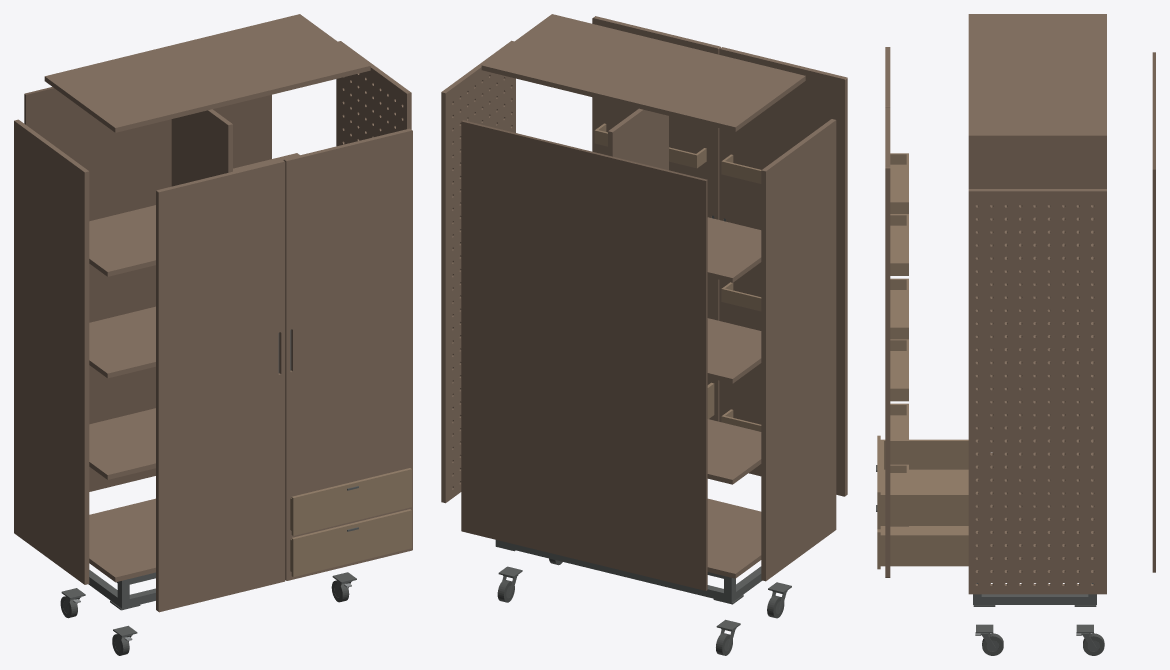
File: exploded.glb
3 renders of one model, left to right at view 1: azimuth 30°, elevation 25°; view 2: azimuth 150°, elevation 25°; view 3: azimuth 270°, elevation 25°, orthographic. The views are drawn at different scales.
Visible parts, largest first — view 1: B30-door, B31-door, B02-left-side, B04-back, B01-top, D0-face, D1-face, B03-right-pegboard, B00-bottom, B05-divider, B11-left-shelf, B12-left-shelf (+2 smaller); view 2: B04-back, B02-left-side, B01-top, B30-door, B03-right-pegboard, B31-door, B00-bottom, B12-left-shelf, B10-left-shelf, B11-left-shelf, B05-divider, A0-width-1; view 3: B03-right-pegboard, B01-top, B05-divider, B31-door, D1-right, D0-right, D1-left, D1-bottom, B04-back, B02-left-side, A0-depth-1, D0-bottom (+5 smaller).
Part boxes in pixels (x1=…): B30-door: x1=156, y1=160, x2=285, y2=612; B31-door: x1=283, y1=128, x2=412, y2=580; B02-left-side: x1=14, y1=119, x2=89, y2=584; B04-back: x1=24, y1=87, x2=271, y2=491; B01-top: x1=44, y1=14, x2=370, y2=132; D0-face: x1=291, y1=509, x2=411, y2=576; D1-face: x1=291, y1=468, x2=411, y2=535; B03-right-pegboard: x1=336, y1=41, x2=411, y2=146; B00-bottom: x1=89, y1=498, x2=155, y2=582; B05-divider: x1=171, y1=109, x2=232, y2=186; B11-left-shelf: x1=89, y1=306, x2=155, y2=378; B12-left-shelf: x1=89, y1=205, x2=155, y2=276; B04-back: x1=461, y1=120, x2=707, y2=590; B02-left-side: x1=761, y1=119, x2=836, y2=581; B01-top: x1=481, y1=14, x2=805, y2=131; B30-door: x1=719, y1=47, x2=847, y2=496; B03-right-pegboard: x1=441, y1=40, x2=515, y2=503; B31-door: x1=592, y1=16, x2=720, y2=421; B00-bottom: x1=707, y1=498, x2=761, y2=578; B12-left-shelf: x1=707, y1=217, x2=761, y2=282; B10-left-shelf: x1=707, y1=419, x2=761, y2=484; B11-left-shelf: x1=707, y1=318, x2=761, y2=383; B05-divider: x1=608, y1=108, x2=668, y2=170; A0-width-1: x1=503, y1=541, x2=723, y2=600; B03-right-pegboard: x1=968, y1=189, x2=1106, y2=594; B01-top: x1=968, y1=14, x2=1106, y2=140; B05-divider: x1=993, y1=140, x2=1103, y2=505; B31-door: x1=885, y1=107, x2=890, y2=577; D1-right: x1=880, y1=493, x2=978, y2=523; D0-right: x1=880, y1=533, x2=978, y2=563; D1-left: x1=880, y1=439, x2=977, y2=469; D1-bottom: x1=880, y1=469, x2=968, y2=525; B04-back: x1=1152, y1=52, x2=1155, y2=572; B02-left-side: x1=968, y1=140, x2=1106, y2=440; A0-depth-1: x1=973, y1=594, x2=1096, y2=604; D0-bottom: x1=880, y1=526, x2=968, y2=566.
Size of the model in its own units: 1.28 by 2.02 by 0.972.
